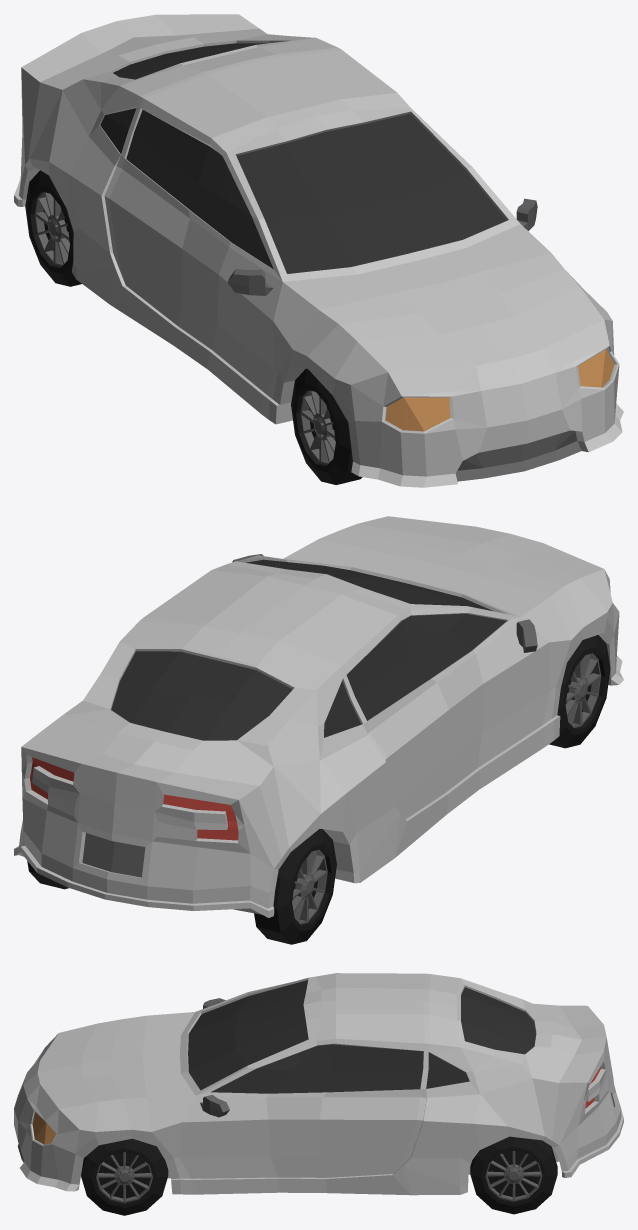
The model's file is sports-gt.glb.
3 views of the same model, one above another, from view 1: azimuth 30°, elevation 25°; view 2: azimuth 150°, elevation 25°; view 3: azimuth 270°, elevation 25° (orthographic). The views are drawn at different scales.
Visible parts, largest first — view 1: sports-gt; view 2: sports-gt; view 3: sports-gt.
Part boxes in pixels (x1,y1,x2,y2): sports-gt: (14, 14, 623, 487); sports-gt: (14, 516, 623, 944); sports-gt: (14, 973, 623, 1215).
Bounding box in the file's own units: 1.95 × 1.41 × 4.6.
